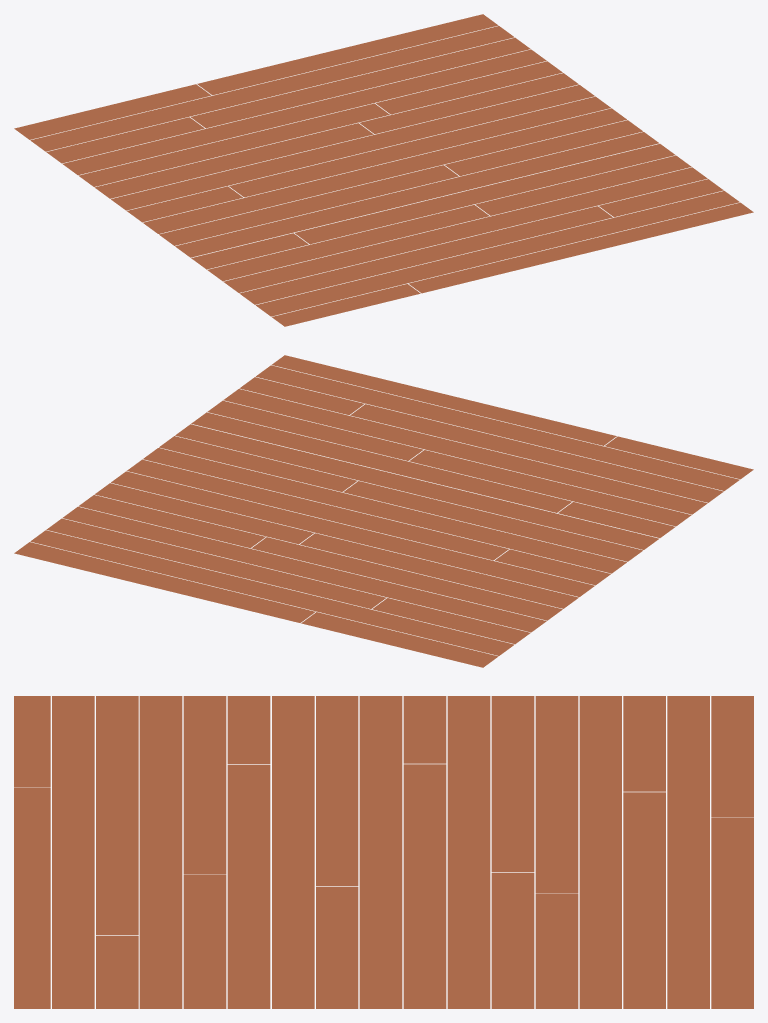
The model's file is test_floor.glb.
3 renders of one model, top to bottom at view 1: azimuth 30°, elevation 25°; view 2: azimuth 150°, elevation 25°; view 3: azimuth 270°, elevation 25°, orthographic. The views are drawn at different scales.
Visible parts, largest first — view 1: floor_005; view 2: floor_005; view 3: floor_005.
Boxes of the visible parts, bbox=[...] form: floor_005: bbox=[14, 14, 753, 326]; floor_005: bbox=[14, 355, 753, 667]; floor_005: bbox=[14, 696, 753, 1008].
Bounding box in the file's own units: 4 × 1.92e-06 × 4.
